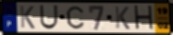7: (88, 5, 107, 32)
C: (65, 5, 86, 30)
H: (133, 4, 156, 32)
K: (114, 5, 131, 31), (19, 5, 36, 30)
U: (39, 5, 59, 31)
